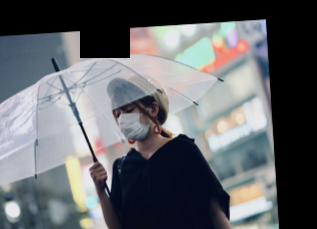with_mask: (112, 100, 153, 140)
